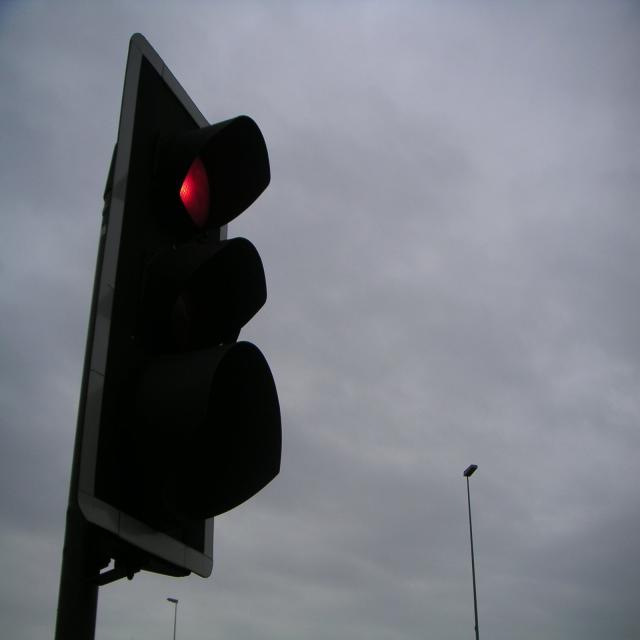red: (142, 123, 258, 248)
